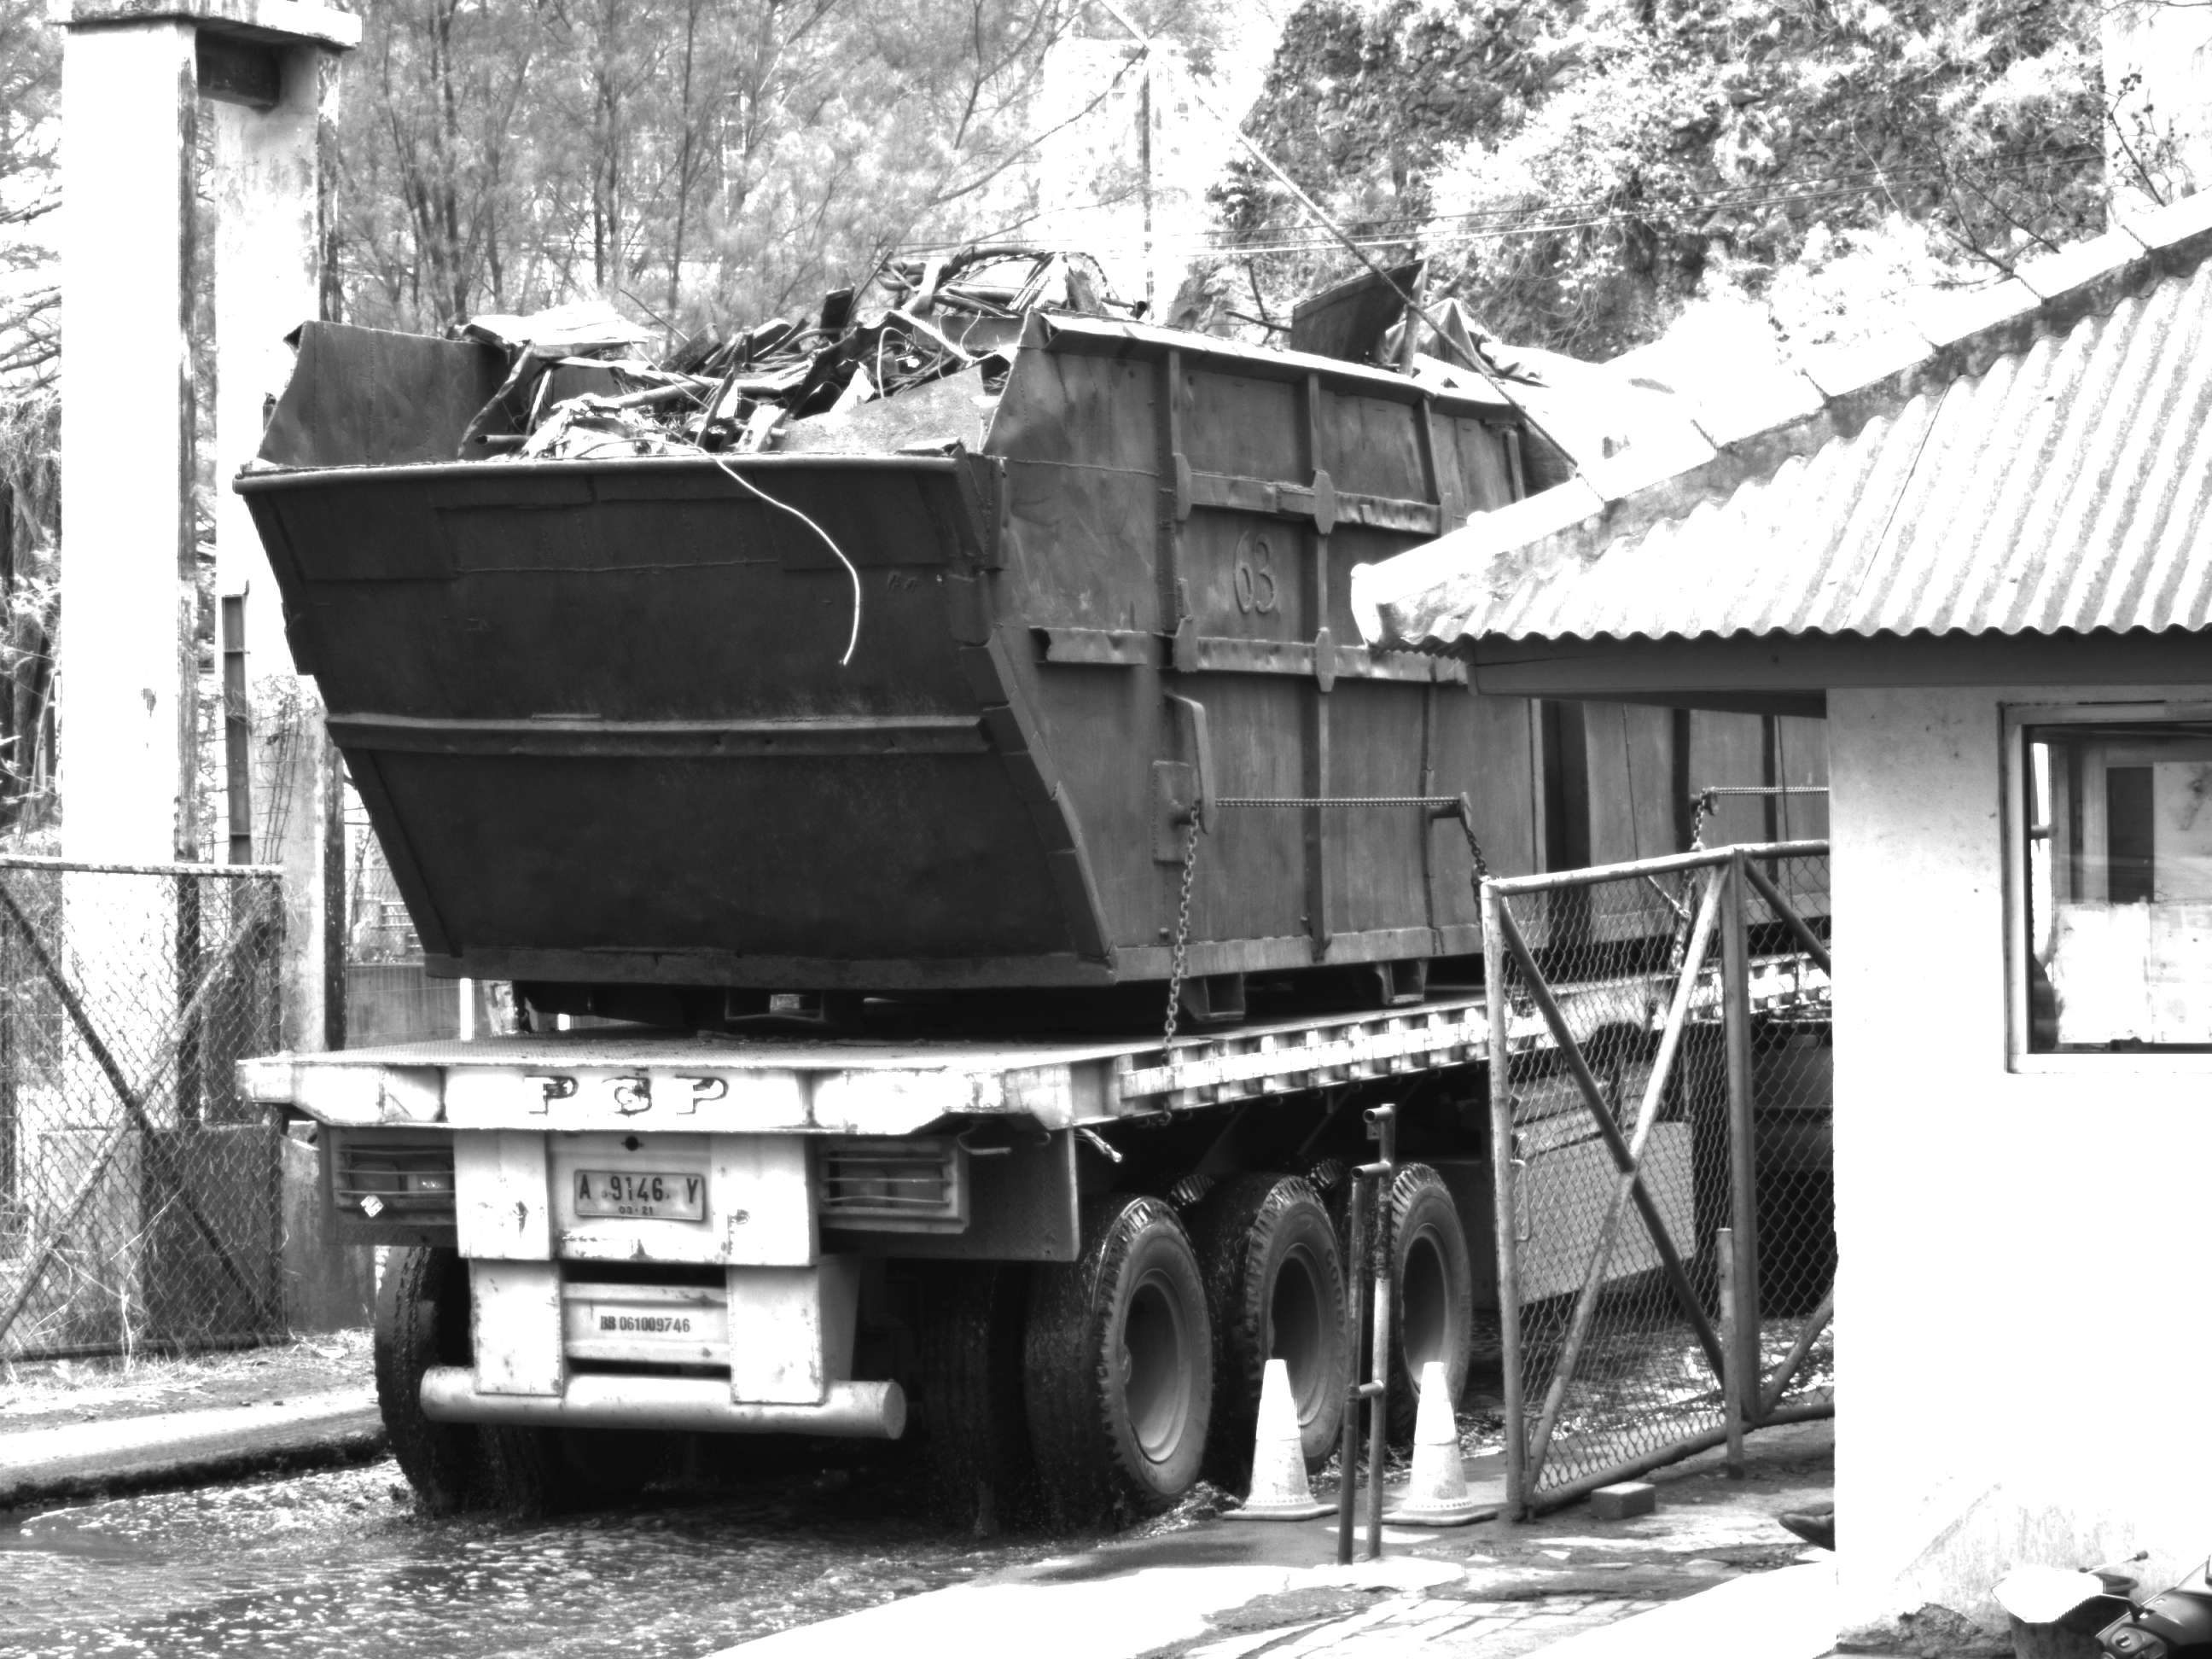day_truck_rear: (230, 1027, 1230, 1518)
plate: (564, 1158, 714, 1227)
